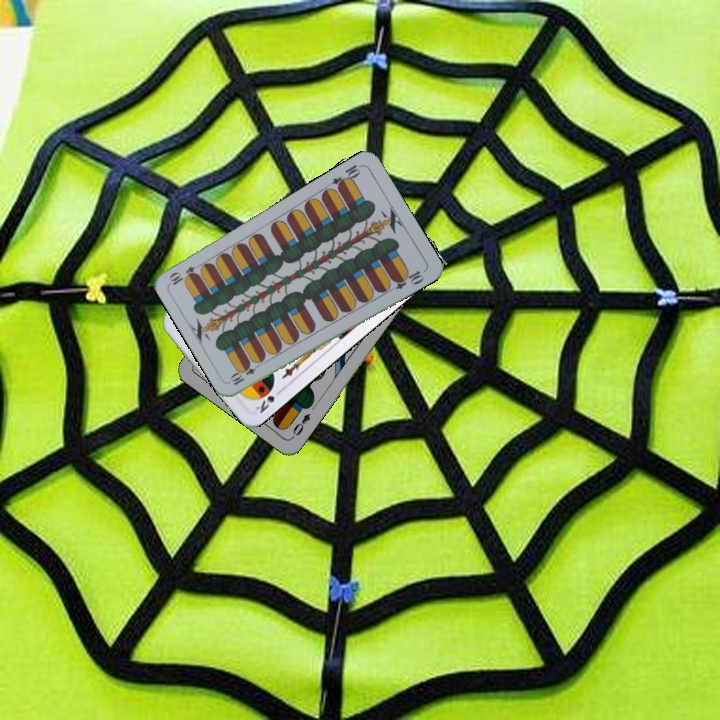E10: (328, 161, 365, 192), (227, 358, 264, 388)
EO: (287, 409, 313, 441)
SK: (252, 385, 286, 416)
